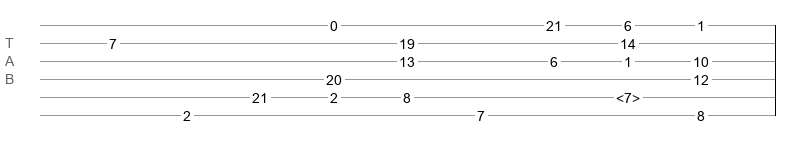0: (330, 18, 338, 28)
1: (624, 54, 632, 64), (697, 18, 705, 28)
10: (693, 54, 709, 64)
12: (693, 72, 709, 82)
13: (399, 54, 415, 64)
14: (620, 36, 636, 46)
19: (399, 36, 415, 46)
2: (183, 108, 191, 118), (330, 90, 338, 100)
20: (326, 72, 342, 82)
21: (252, 90, 268, 100), (546, 18, 562, 28)
6: (550, 54, 558, 64), (624, 18, 632, 28)
7: (109, 36, 117, 46), (477, 108, 485, 118)
8: (403, 90, 411, 100), (697, 108, 705, 118)
harmonic: (616, 90, 640, 100)
